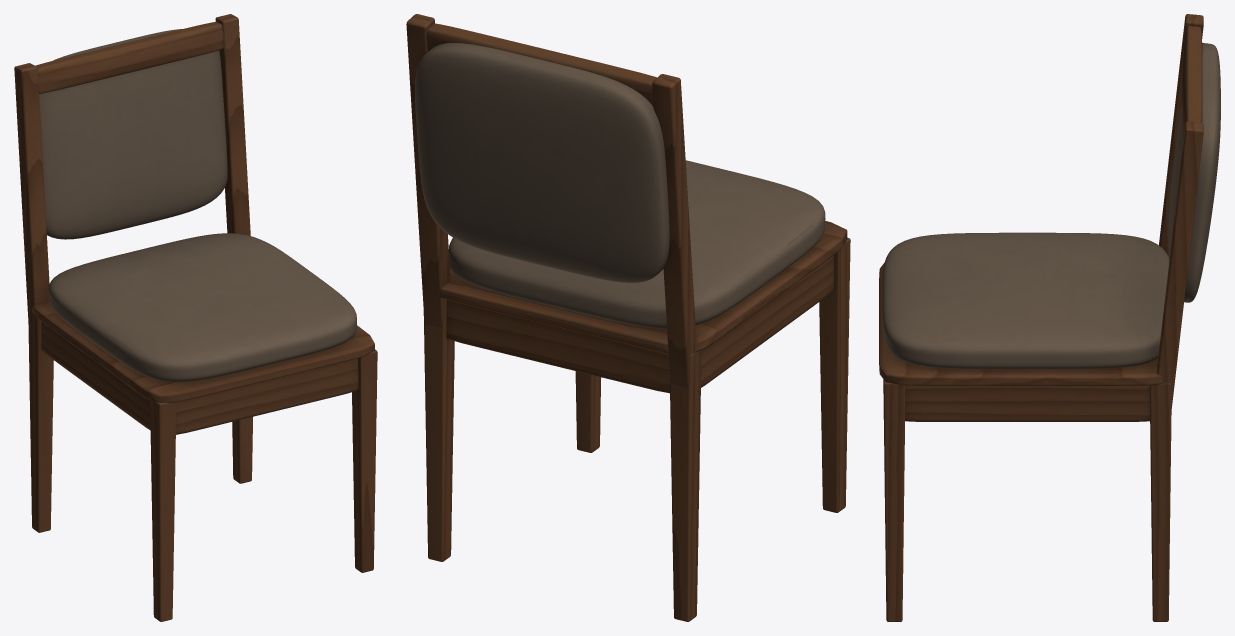
The model's file is walnut-upholstered.glb.
The picture shows the model from 3 angles, left to right: view 1: azimuth 30°, elevation 25°; view 2: azimuth 150°, elevation 25°; view 3: azimuth 270°, elevation 25°; orthographic projection. The views are drawn at different scales.
Parts seen in each view (by area): view 1: fabric_primary, wood_v, wood_h, wood_hy; view 2: fabric_primary, wood_v, wood_h, wood_hy; view 3: fabric_primary, wood_v, wood_hy, wood_h.
Boxes of the visible parts, x1,y1,x2,y2 form: fabric_primary: [39, 29, 356, 382]; wood_v: [14, 14, 377, 621]; wood_h: [32, 21, 374, 434]; wood_hy: [41, 322, 150, 430]; fabric_primary: [415, 43, 825, 328]; wood_v: [406, 14, 850, 621]; wood_h: [427, 23, 847, 393]; wood_hy: [701, 255, 833, 387]; fabric_primary: [882, 43, 1220, 369]; wood_v: [883, 14, 1203, 621]; wood_hy: [905, 385, 1149, 421]; wood_h: [879, 25, 1202, 385].
Size of the model in its own units: 0.46 by 0.8811 by 0.5522.
4 materials, 4 textured.
